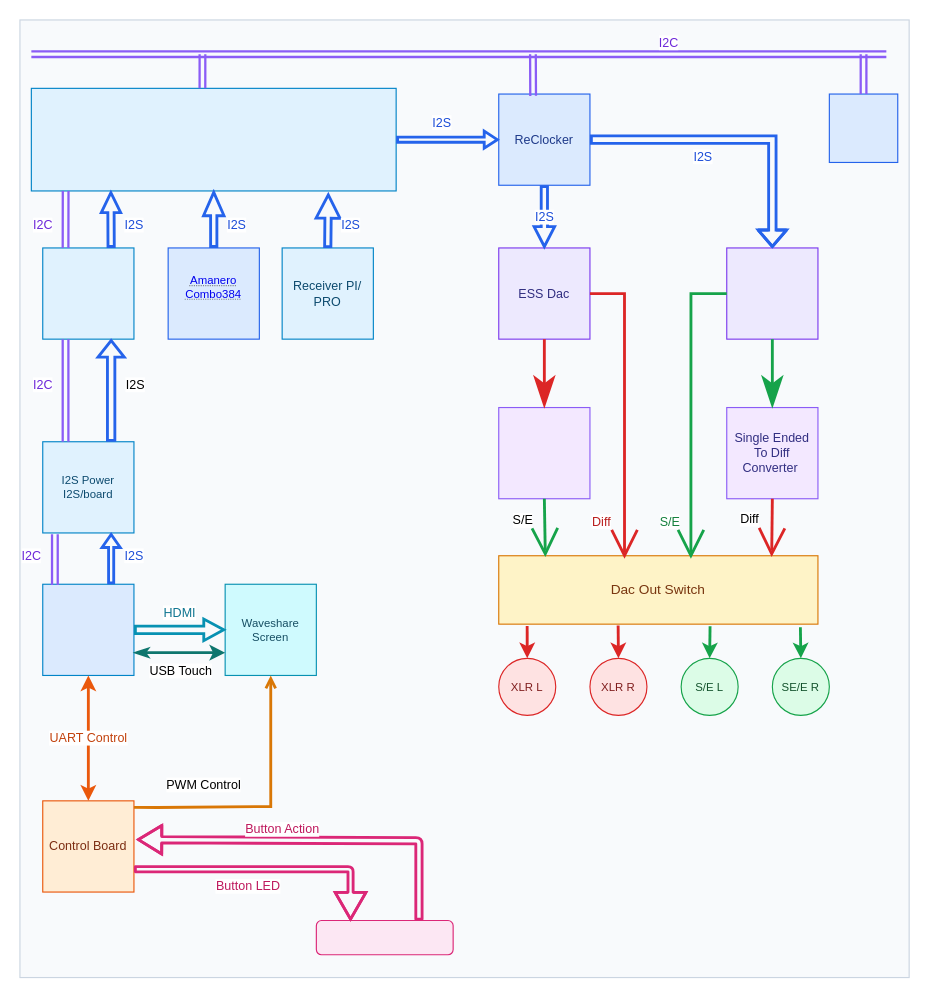
Some shapes in this 929 by 998 pixel diagram are drawn without their labels. Here are the shapes that lost their labels. From the top down, the centre of each, then its label:
At (213,139): "STATION PI PRO BOARD".
At (863,127): "Monitor Pi Pro".
At (88,293): "I2S Power I2S/board (Receiver)".
At (772,293): "Proto Dac".
At (544,452): "Diff To Single Ended Converter".
At (88,629): "RPI 4".
At (384,937): "Button Array".
